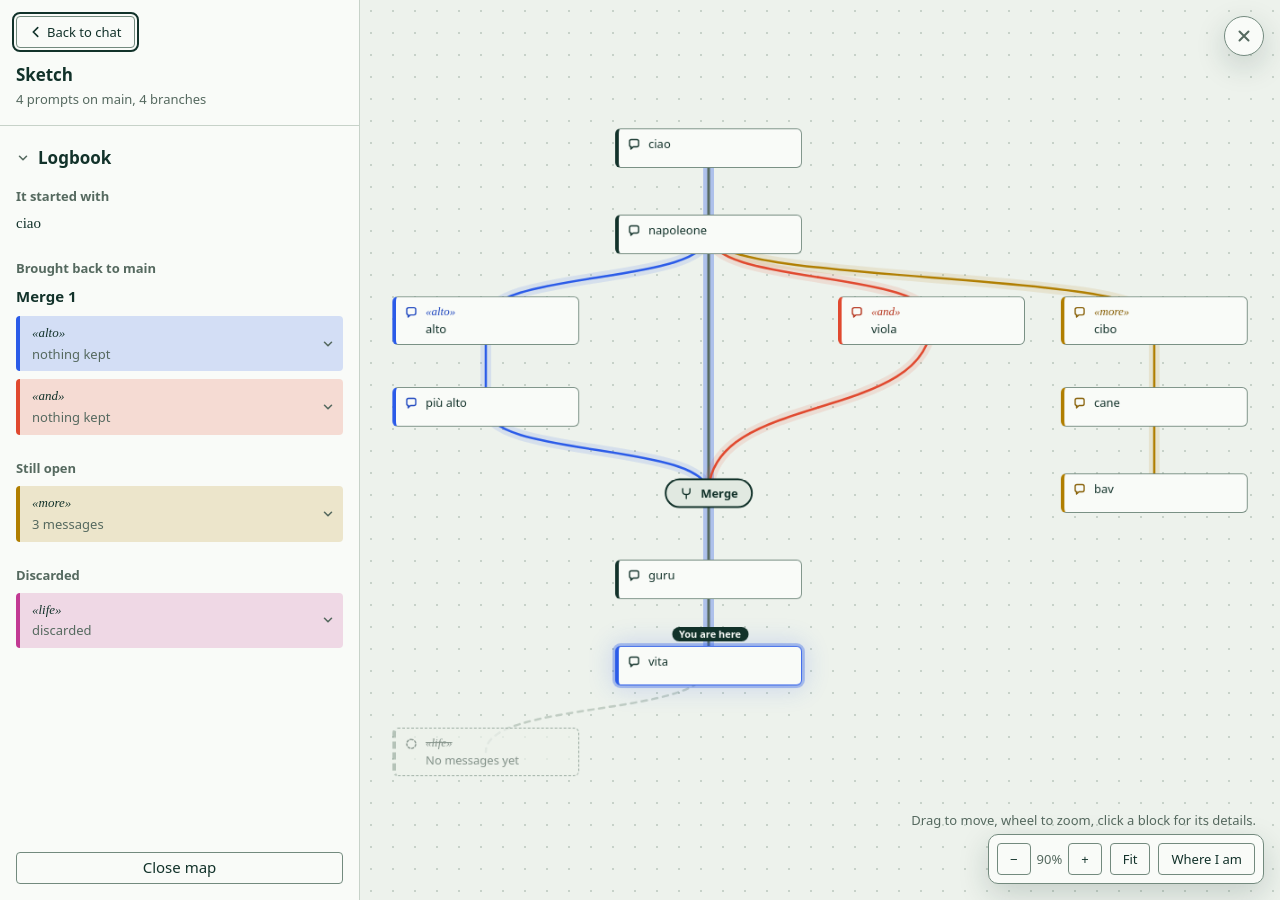
Scenario: ConversationMap › shows a block's details on click, and goes there only from the details
This screenshot has width=1280, height=900.
Later steps or results of the test are not shown.
Click the button with aria-label "Details: guru": click(709, 579) [615,560,802,599]
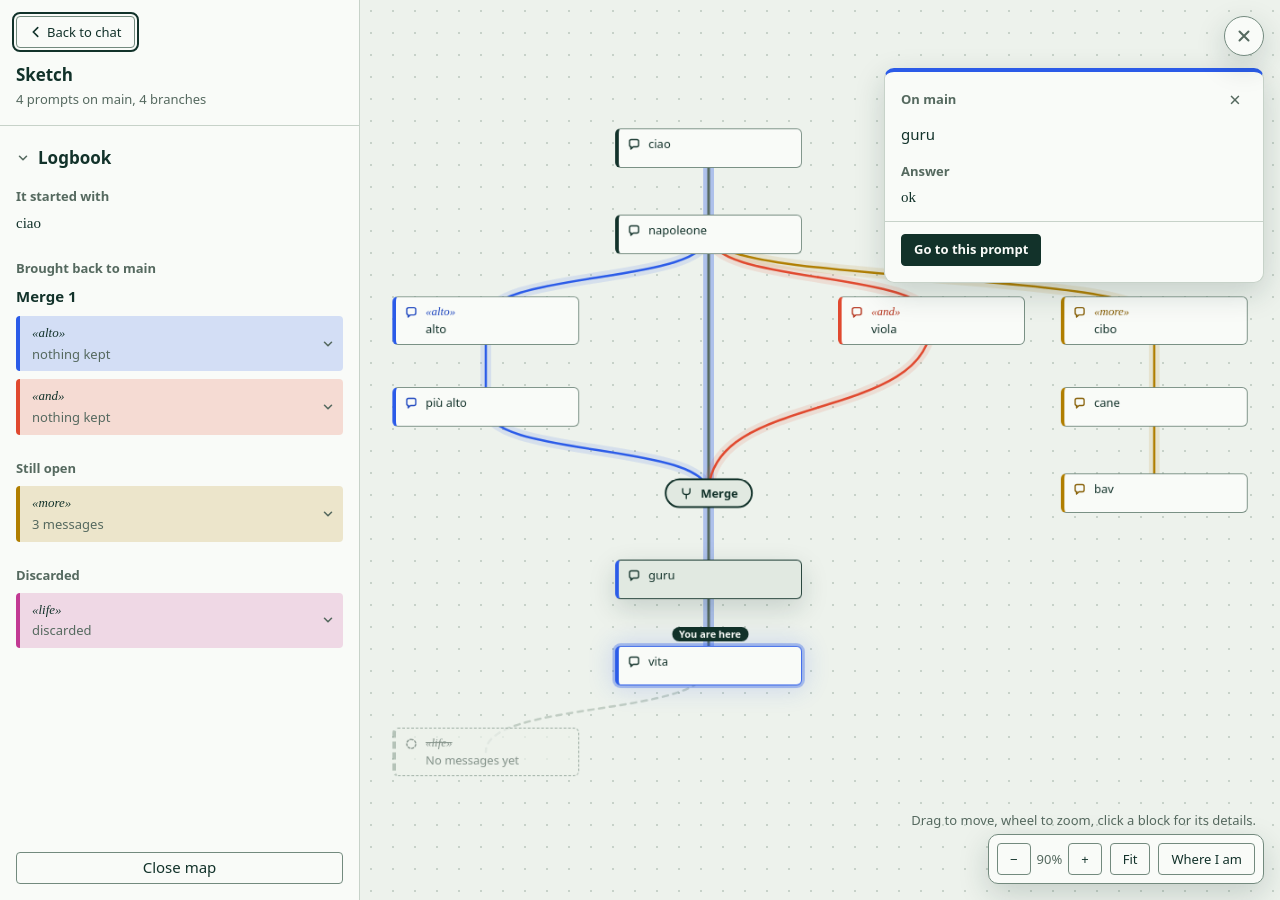
Expected: the element named "Selected block" shows "On main", [901,90,956,108]
Expected: the element named "Selected block" shows "ok", [901,189,916,205]
Click the button "Go to this prompt": click(971, 250) [901,234,1042,266]
Click the button "cane": click(1154, 407) [1061,387,1248,427]
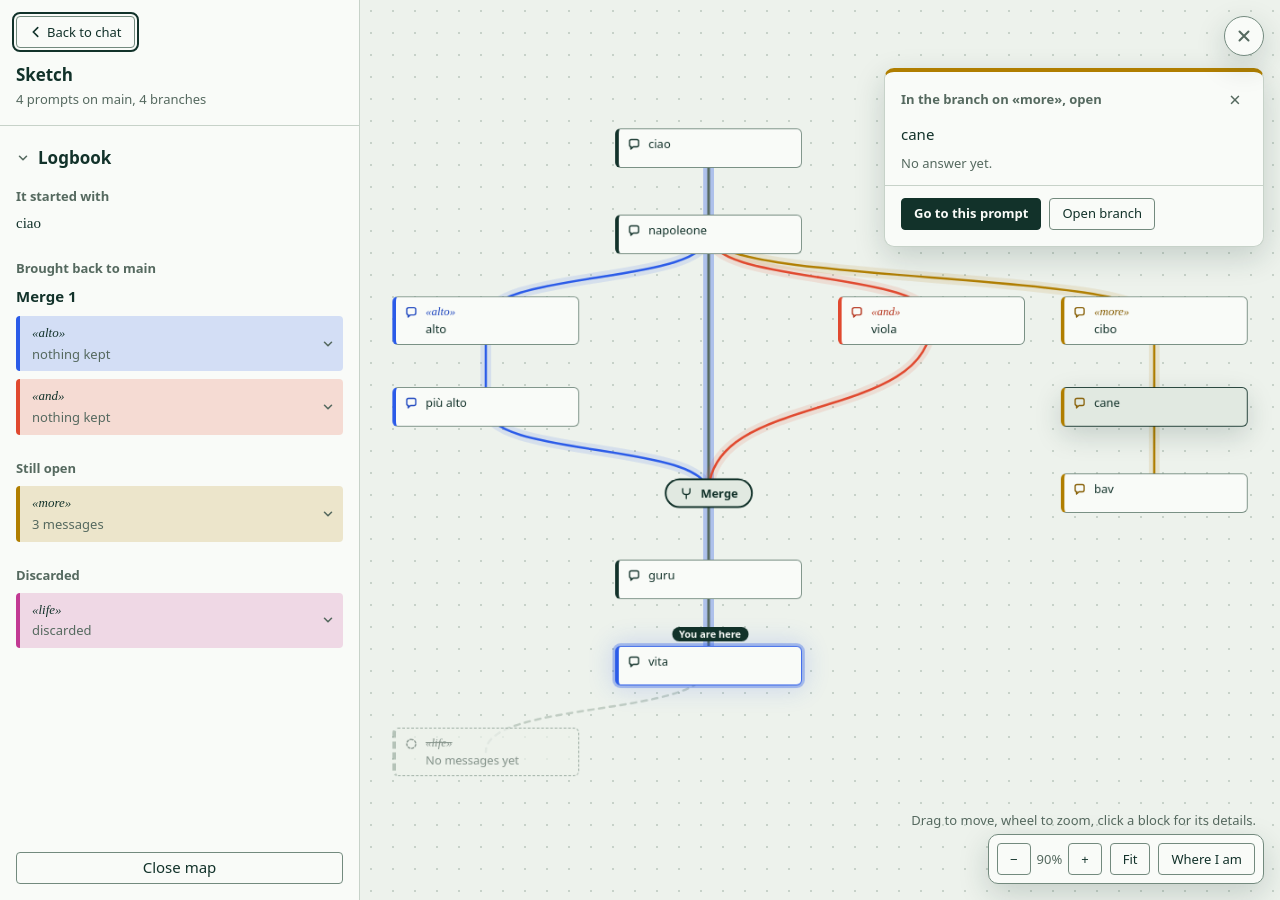
Expected: the element named "Selected block" shows "In the branch on «more»", [901,90,1102,108]
